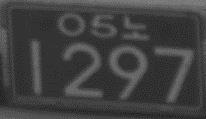0: (56, 11, 87, 37)
1: (21, 39, 52, 96)
2: (61, 41, 103, 99)
5: (89, 12, 117, 39)
7: (153, 45, 195, 104)
9: (107, 43, 148, 99)
노: (122, 13, 149, 40)
